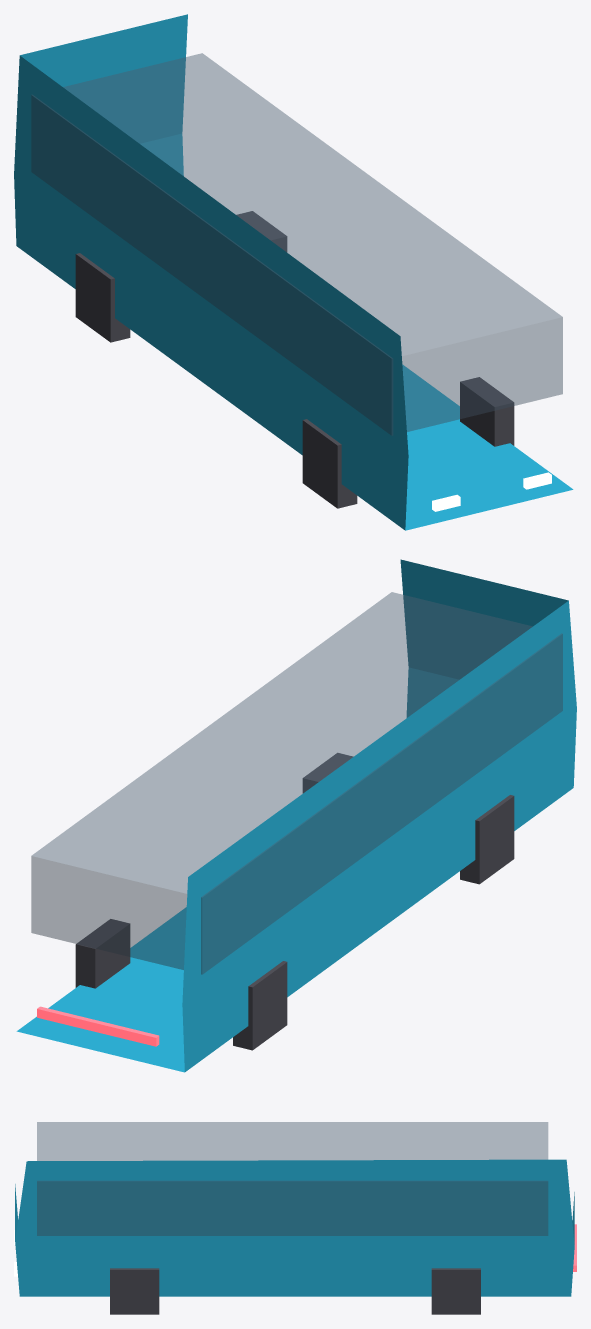
The model's file is transjakarta.glb.
3 views of the same model, one above another, from view 1: azimuth 30°, elevation 25°; view 2: azimuth 150°, elevation 25°; view 3: azimuth 270°, elevation 25° (orthographic). The views are drawn at different scales.
Parts seen in each view (by area): view 1: bus_body, bus_glass, wheel_2, wheel_0, wheel_1, wheel_3; view 2: bus_body, bus_glass, wheel_0, wheel_2, wheel_3, taillight, wheel_1; view 3: bus_body, bus_glass, wheel_1, wheel_3.
Boxes of the visible parts, left/top/right/bottom form: bus_body: left=14, top=14, right=573, bottom=530; bus_glass: left=31, top=53, right=562, bottom=435; wheel_2: left=75, top=253, right=130, bottom=342; wheel_0: left=302, top=419, right=357, bottom=508; wheel_1: left=460, top=377, right=514, bottom=446; wheel_3: left=236, top=211, right=287, bottom=251; bus_body: left=16, top=559, right=576, bottom=1072; bus_glass: left=31, top=592, right=562, bottom=974; wheel_0: left=460, top=795, right=514, bottom=884; wheel_2: left=233, top=961, right=287, bottom=1050; wheel_3: left=75, top=919, right=130, bottom=988; taillight: left=37, top=1006, right=159, bottom=1046; wheel_1: left=302, top=753, right=353, bottom=792; bus_body: left=15, top=1159, right=574, bottom=1296; bus_glass: left=37, top=1122, right=548, bottom=1235; wheel_1: left=110, top=1268, right=159, bottom=1314; wheel_3: left=431, top=1268, right=480, bottom=1314.
Bounding box in the file's own units: 2.52 × 2.95 × 9.8.
